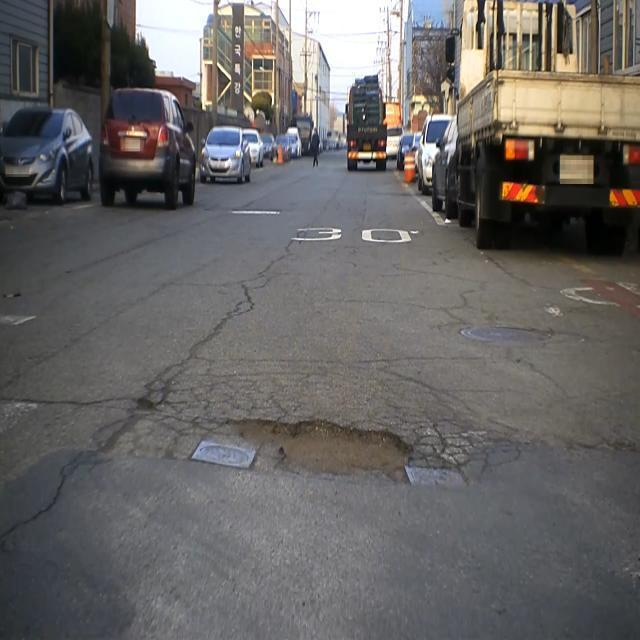pothole: (184, 406, 467, 504)
